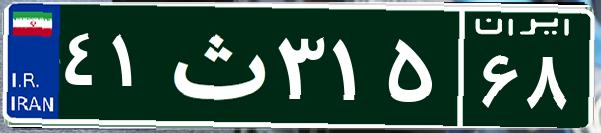1: (330, 28, 385, 110), (110, 28, 158, 105)
3: (273, 28, 330, 110)
4: (57, 26, 110, 107)
5: (385, 28, 445, 110)
6: (475, 38, 525, 113)
8: (525, 38, 570, 115)
ث: (158, 15, 273, 115)
